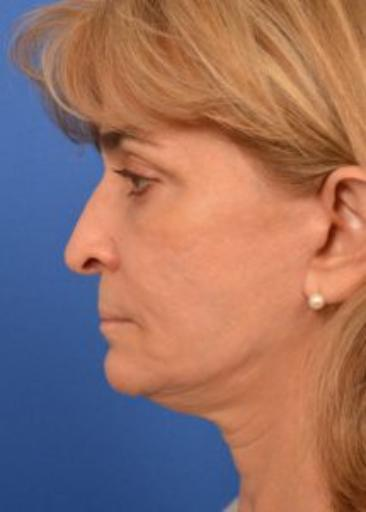left_eye: (113, 163, 168, 203)
left_lip_corner: (121, 308, 151, 339)
